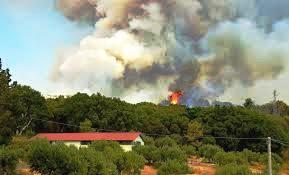fire: (165, 92, 186, 110)
